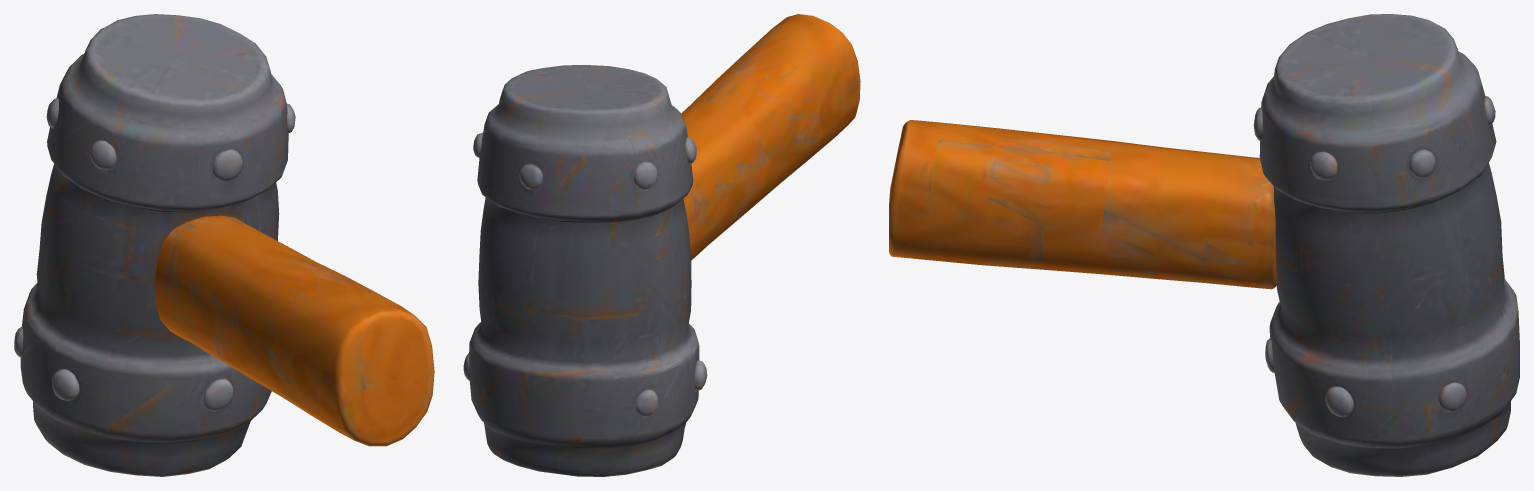
The model's file is tool_hammer.glb.
3 renders of one model, left to right at view 1: azimuth 30°, elevation 25°; view 2: azimuth 150°, elevation 25°; view 3: azimuth 270°, elevation 25°, orthographic. The views are drawn at different scales.
Size of the model in its own units: 0.4161 by 0.7033 by 1.
Materials: 1 (1 with a texture image).
